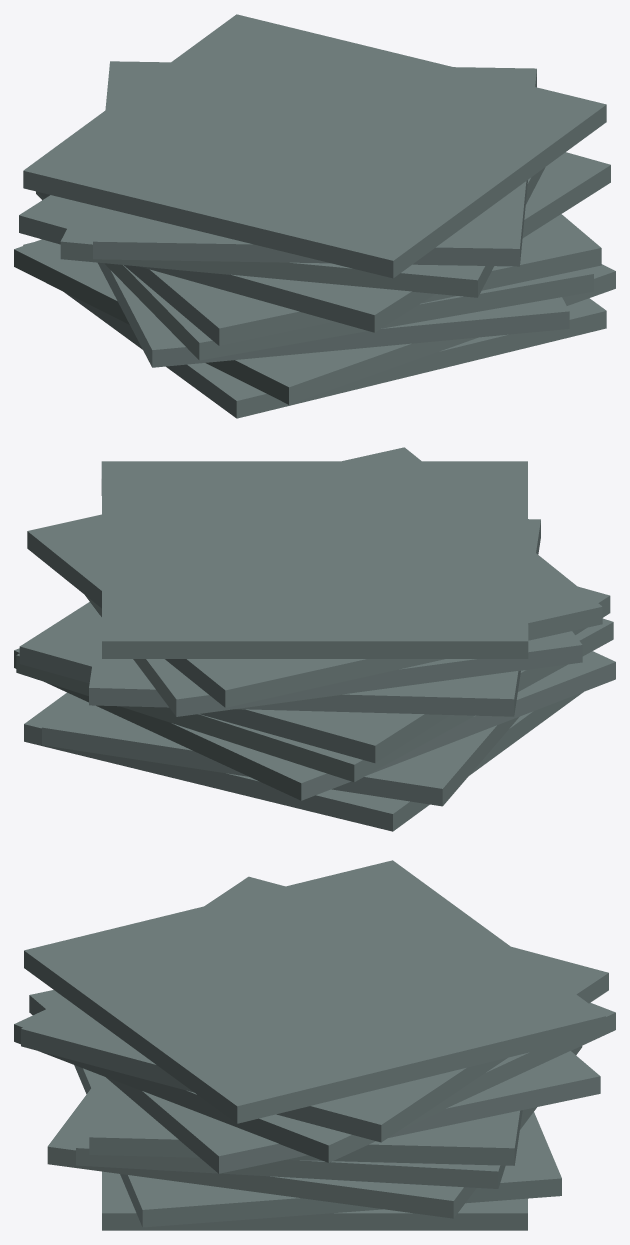
The model's file is Plates.fbx.
3 renders of one model, top to bottom at view 1: azimuth 30°, elevation 25°; view 2: azimuth 150°, elevation 25°; view 3: azimuth 270°, elevation 25°, orthographic.
Parts seen in each view (by area): view 1: Plates; view 2: Plates; view 3: Plates.
Boxes of the visible parts, <box> form: Plates: <box>14,14,615,418</box>; Plates: <box>14,447,615,831</box>; Plates: <box>14,860,615,1230</box>.
Bounding box in the file's own units: 97.72 × 28.18 × 97.72.
